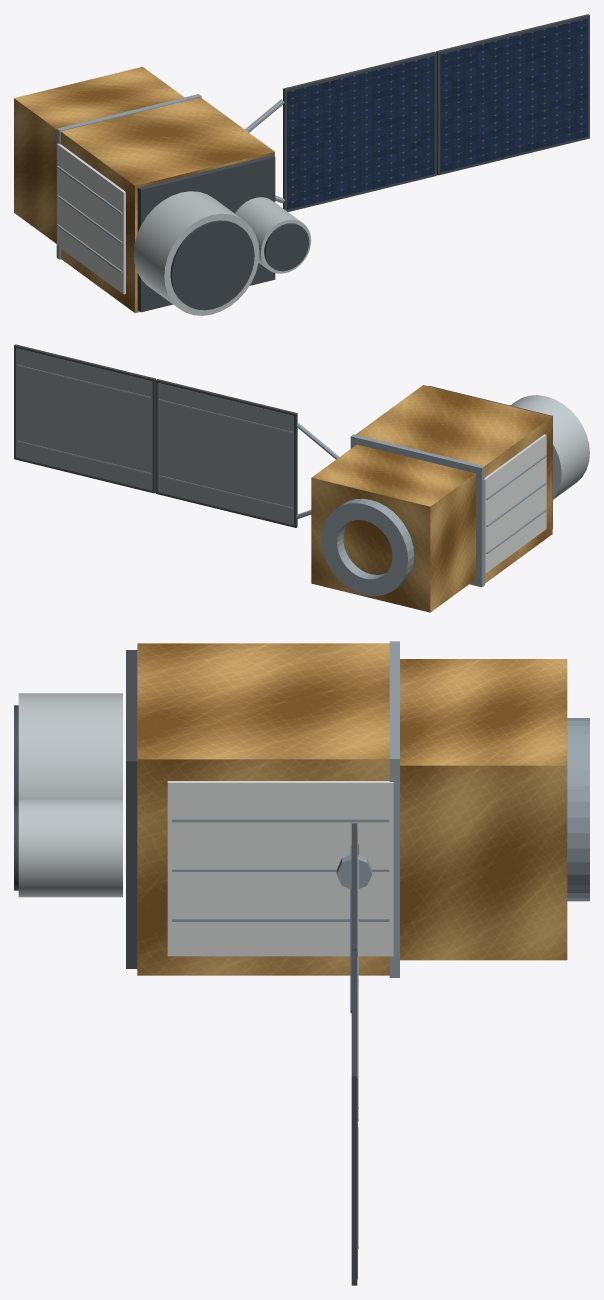
Rendered from geo-kompsat-2b.glb.
The picture shows the model from 3 angles, top to bottom: view 1: azimuth 30°, elevation 25°; view 2: azimuth 150°, elevation 25°; view 3: azimuth 270°, elevation 25°; orthographic projection. The views are drawn at different scales.
Parts seen in each view (by area): view 1: Solar cell panel (×2), Payload module, Service module, Optical instrument housing (×2), Telescope aperture (×2), Radiator face, Earth-facing deck, Solar panel frame (×2), Module interface; view 2: Rear array substrate (×2), Service module, Payload module, Radiator face, Launch adapter ring, Solar panel frame (×2), Optical instrument housing, Module interface; view 3: Service module, Payload module, Radiator face, Optical instrument housing (×2), Launch adapter ring, Earth-facing deck, Solar panel frame (×2), Module interface, Radiator seam (×2).
Boxes of the visible parts, bbox=[...] form: Solar cell panel (×2): bbox=[287, 18, 587, 209]; Payload module: bbox=[60, 97, 274, 312]; Service module: bbox=[14, 66, 184, 243]; Optical instrument housing (×2): bbox=[133, 191, 311, 315]; Telescope aperture (×2): bbox=[170, 220, 309, 310]; Radiator face: bbox=[57, 143, 125, 294]; Earth-facing deck: bbox=[137, 155, 275, 312]; Solar panel frame (×2): bbox=[283, 14, 589, 211]; Module interface: bbox=[56, 94, 201, 259]; Rear array substrate (×2): bbox=[16, 348, 293, 525]; Service module: bbox=[311, 444, 475, 612]; Payload module: bbox=[356, 385, 552, 583]; Radiator face: bbox=[483, 434, 546, 573]; Launch adapter ring: bbox=[321, 498, 414, 596]; Solar panel frame (×2): bbox=[14, 344, 297, 527]; Optical instrument housing: bbox=[510, 395, 589, 499]; Module interface: bbox=[350, 434, 484, 587]; Service module: bbox=[400, 659, 567, 960]; Payload module: bbox=[137, 643, 389, 975]; Radiator face: bbox=[167, 781, 393, 956]; Optical instrument housing (×2): bbox=[18, 693, 122, 897]; Launch adapter ring: bbox=[567, 718, 589, 901]; Earth-facing deck: bbox=[126, 650, 137, 968]; Solar panel frame (×2): bbox=[351, 823, 357, 1285]; Module interface: bbox=[389, 641, 399, 977]; Radiator seam (×2): bbox=[172, 818, 389, 921].
Size of the model in its own units: 8.98 by 2.11 by 5.04.
Materials: 7 (2 with a texture image).
